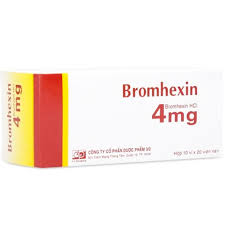Bromhexin: (120, 81, 200, 99)
